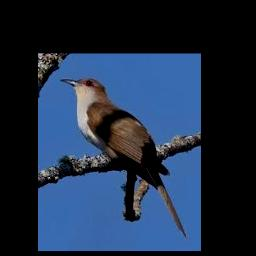Cuckoo: (60, 78, 186, 237)
